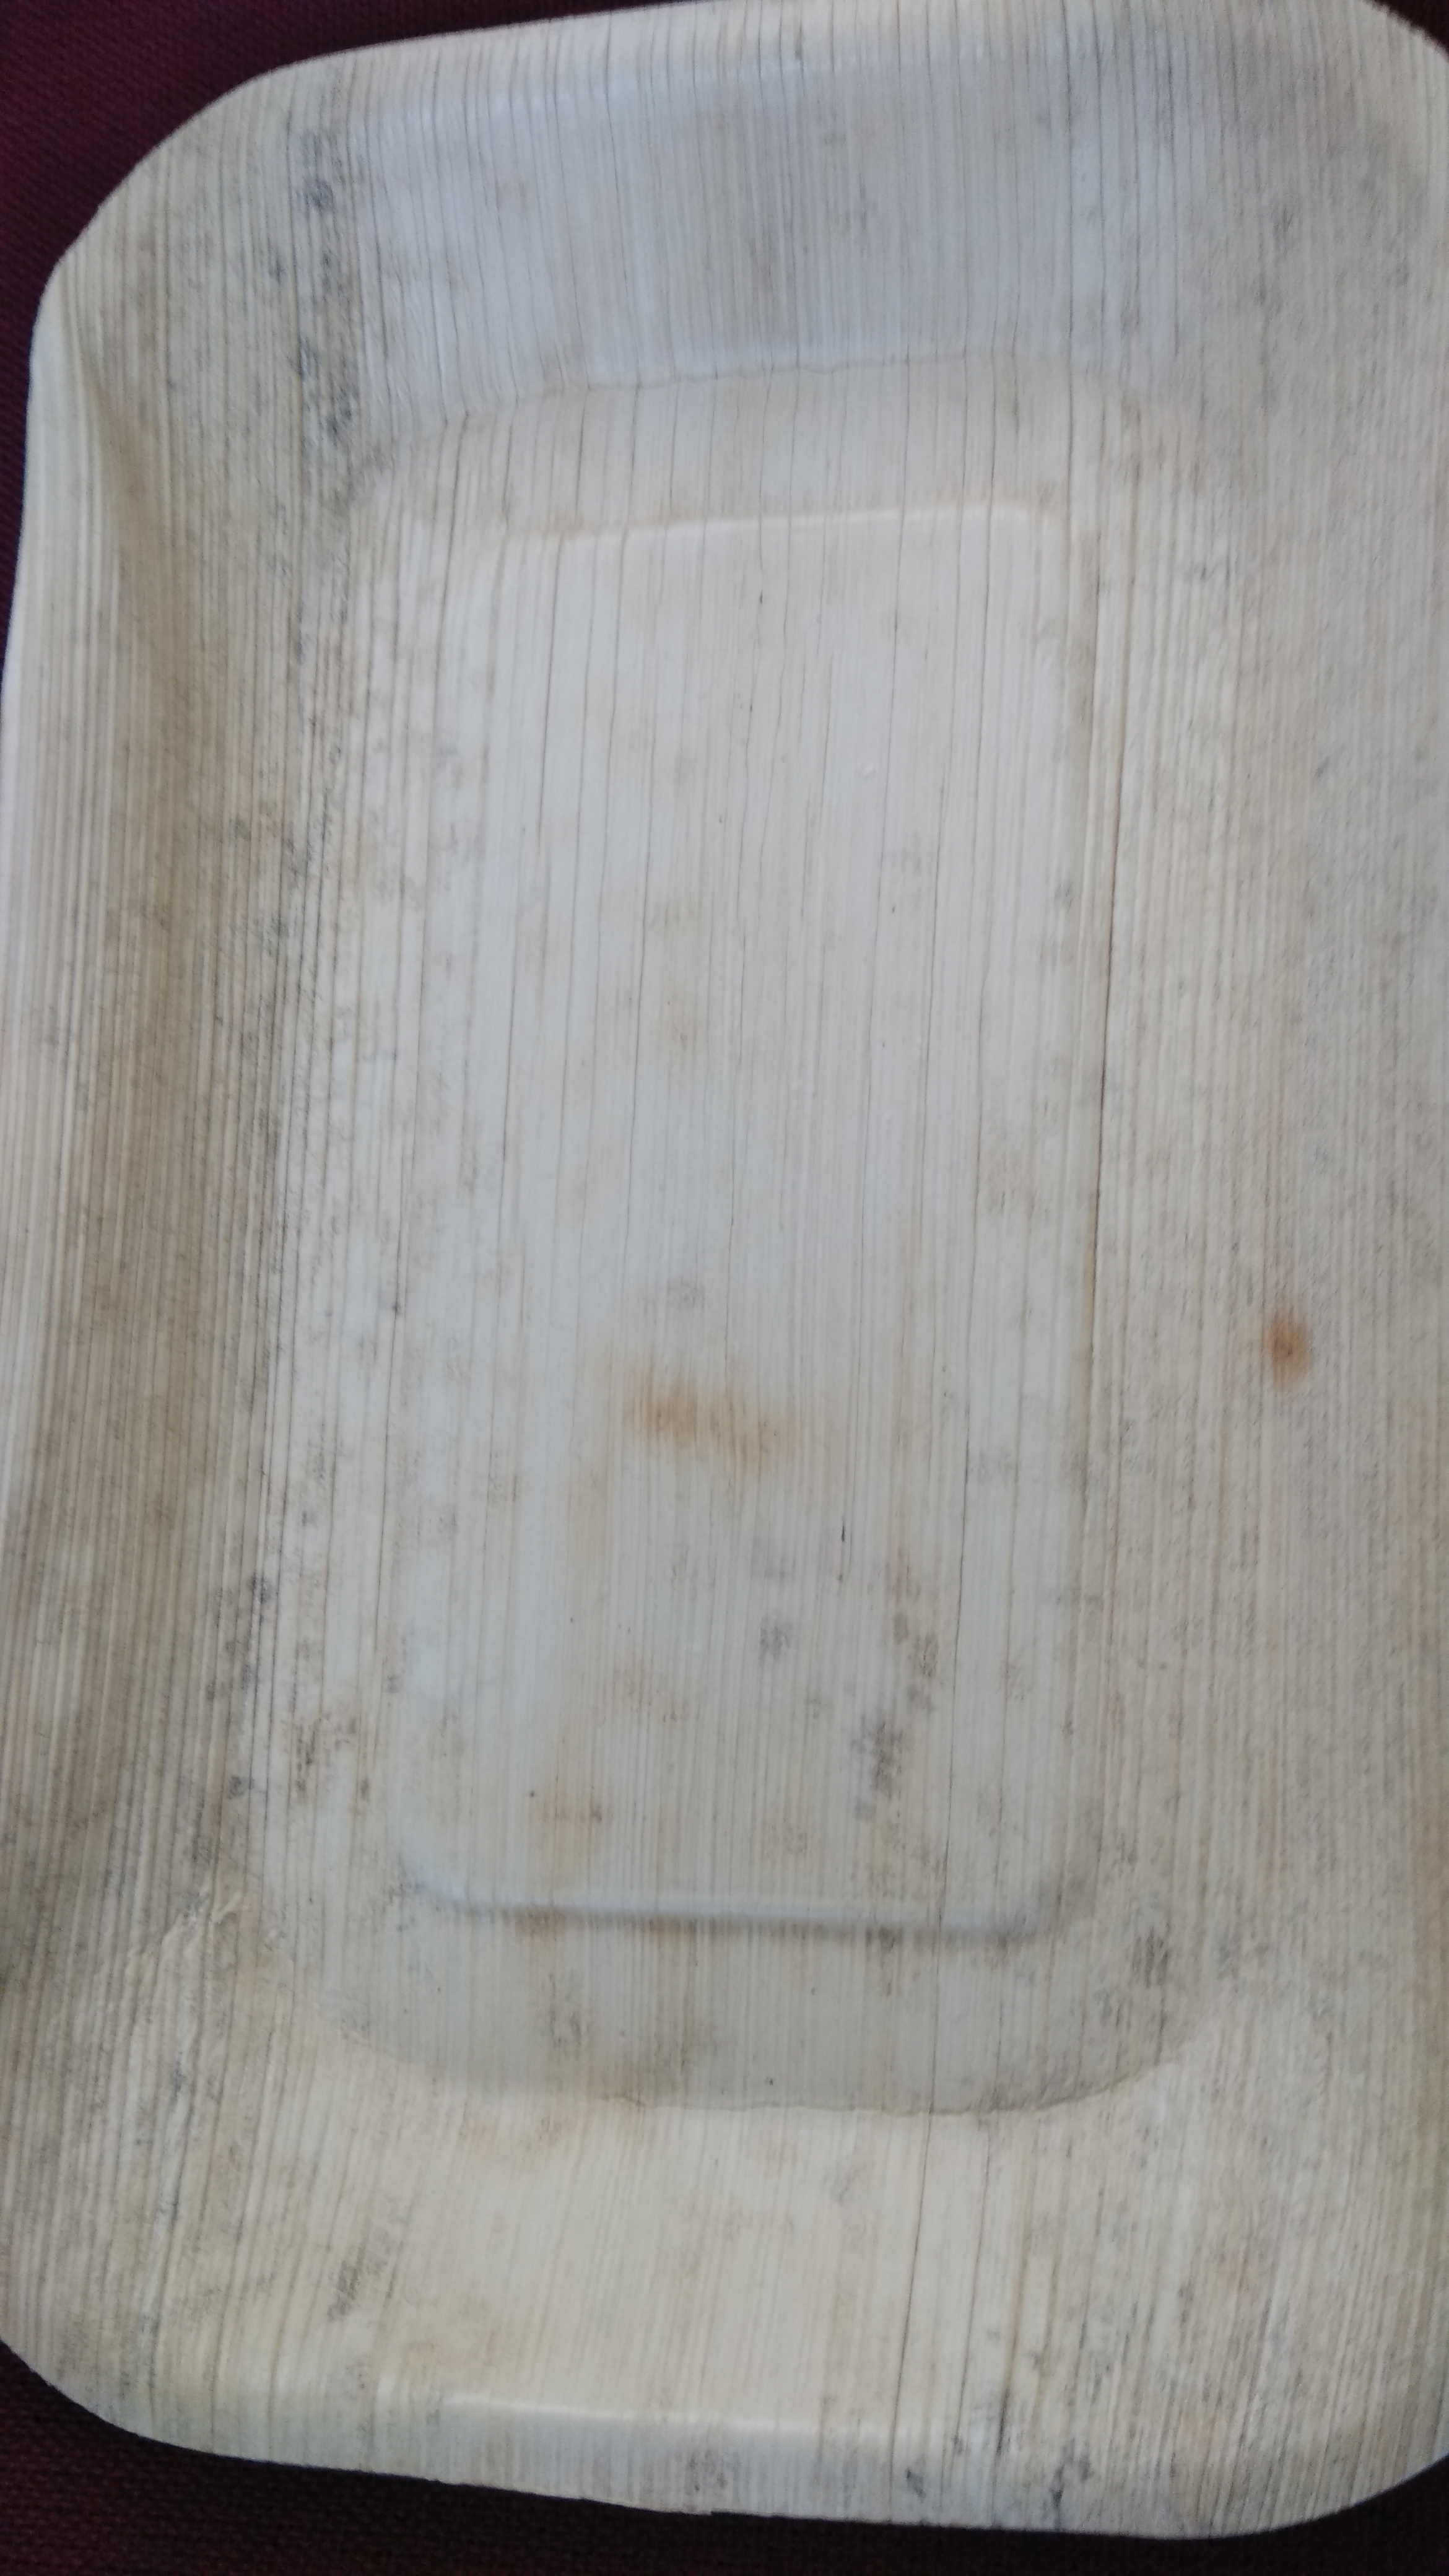areca plate: (41, 34, 1428, 2523)
